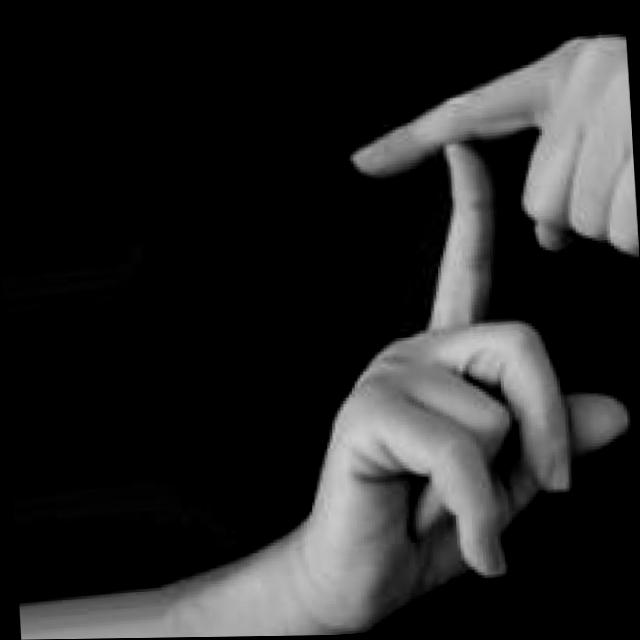T: (271, 8, 640, 636)
